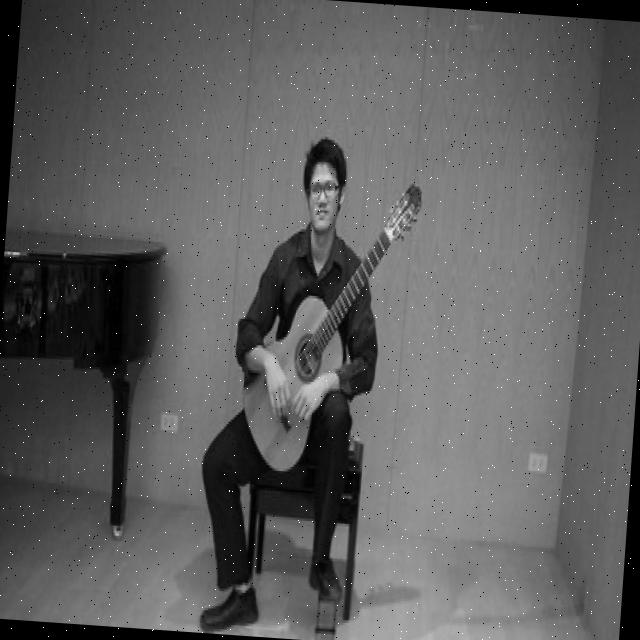guitar: (234, 169, 428, 486)
